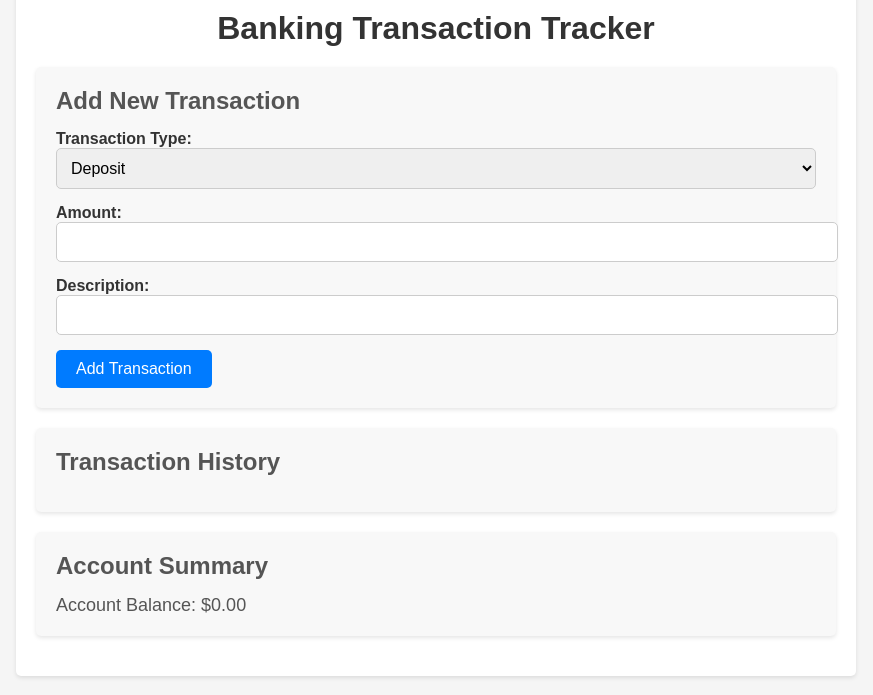
Test case: Bank › Banking_Transaction_Tracker › Withdrawal_Transactions › adds_a_withdrawal_transaction_with_all_non_empty_fields
# Select Withdrawal from the transaction type dropdown
Select "Withdrawal" in the dropdown labelled "Transaction Type:" at [436, 168], box [56, 148, 816, 189]
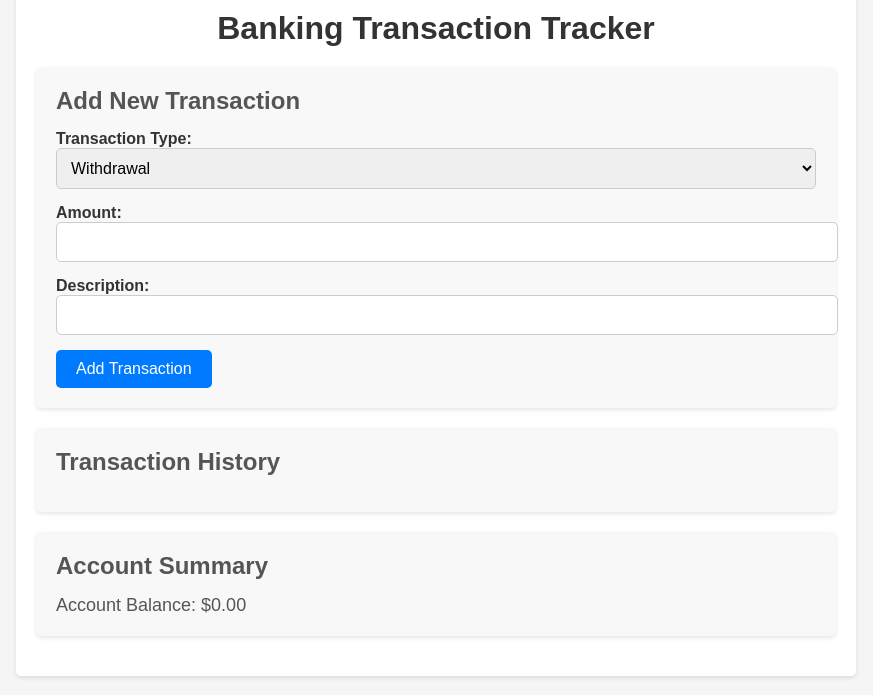
# Fill in the amount and description fields
Type "50" into the number field labelled "Amount:" at [447, 242], box [56, 222, 838, 262]
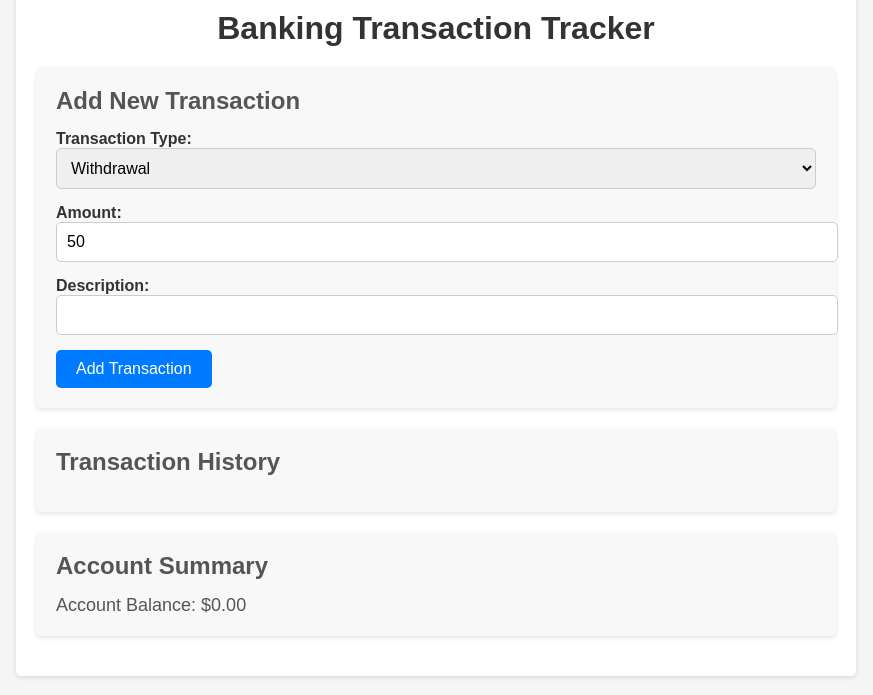
Type "Withdrawal Test" into the field labelled "Description:" at [447, 315], box [56, 295, 838, 335]
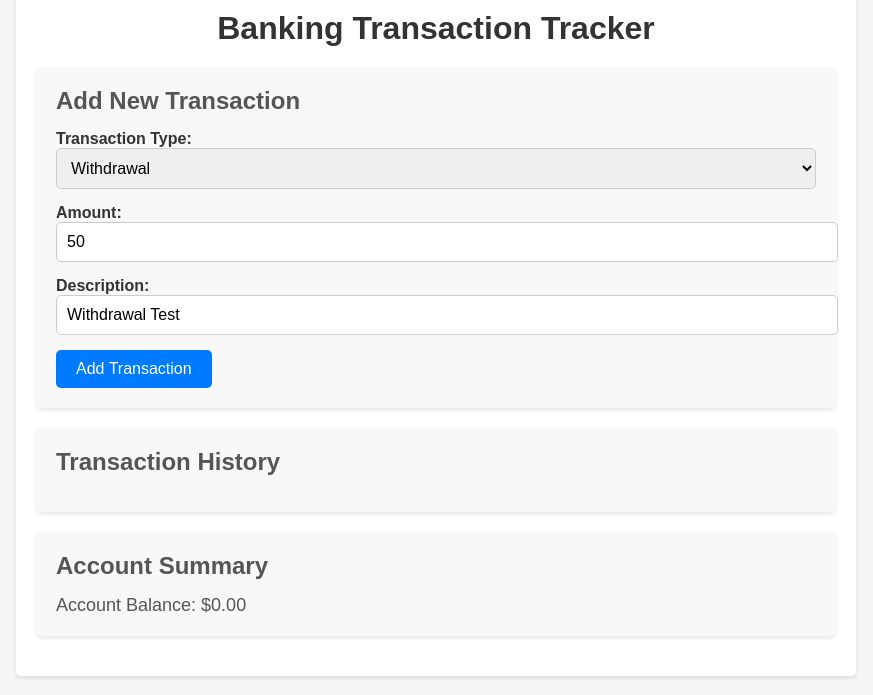
# Click the Add Transaction button
Click the button "Add Transaction" at [134, 369], box [56, 350, 212, 388]
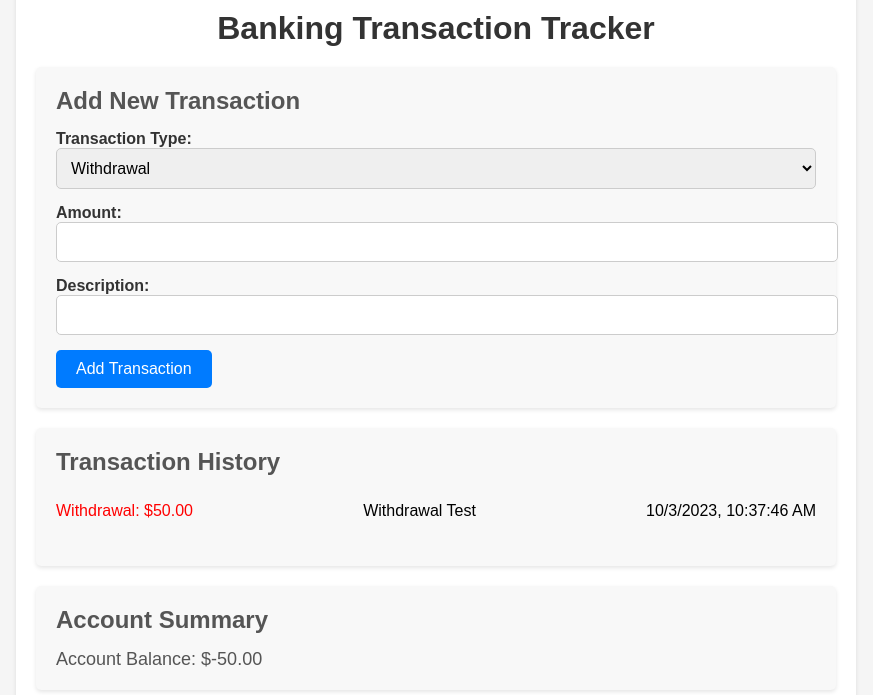
Now the text "Withdrawal: $50.00" is shown, box [56, 502, 193, 520]
Now the text "Account Balance: $-50.00" is shown, box [56, 649, 262, 669]
